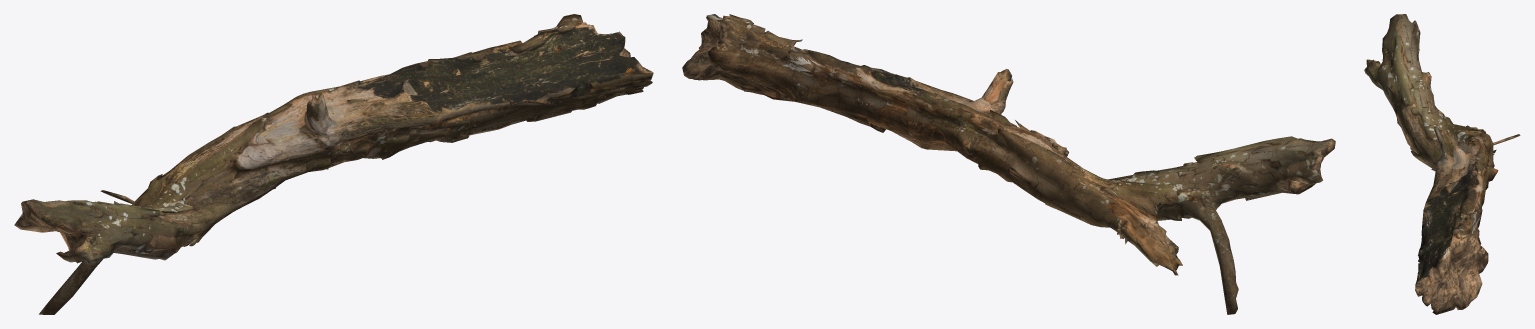
Rendered from dead_tree_trunk_02.gltf.
The picture shows the model from 3 angles, left to right: view 1: azimuth 30°, elevation 25°; view 2: azimuth 150°, elevation 25°; view 3: azimuth 270°, elevation 25°; orthographic projection. The views are drawn at different scales.
Visible parts, largest first — view 1: dead_tree_trunk_02__x; view 2: dead_tree_trunk_02__x; view 3: dead_tree_trunk_02__x.
Boxes of the visible parts, box(x1,y1,x2,y2) form: dead_tree_trunk_02__x: box(14, 14, 653, 314); dead_tree_trunk_02__x: box(682, 14, 1335, 314); dead_tree_trunk_02__x: box(1364, 14, 1520, 314).
Size of the model in its own units: 4.05 by 1.05 by 1.06.
1 material, 1 textured.
